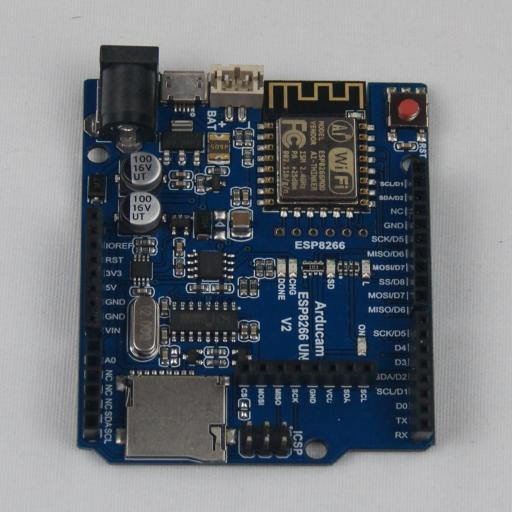Arduino Uno Camera Shield: (77, 45, 435, 466)
